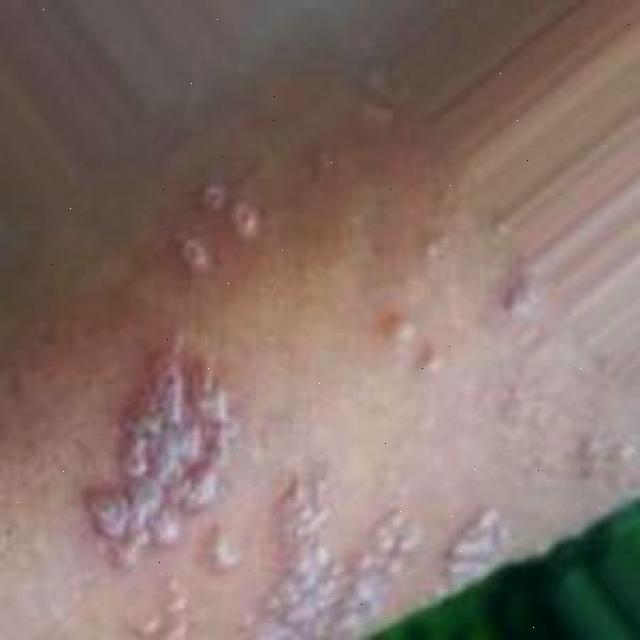Shingles: (75, 326, 236, 563), (253, 453, 414, 640), (172, 171, 254, 264), (435, 501, 508, 586)
